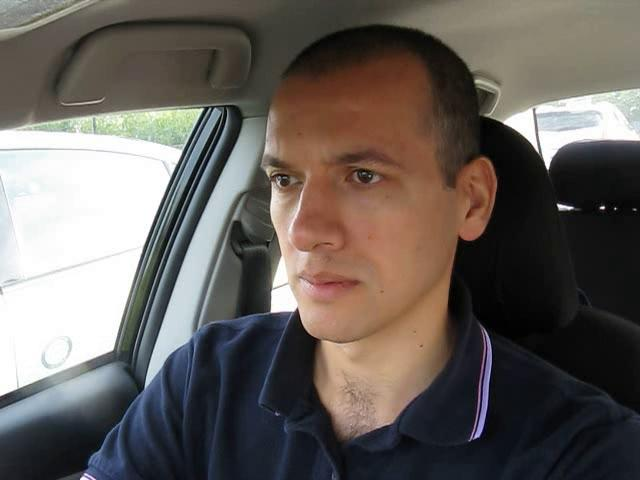no_yawn: (280, 259, 370, 307)
open_eyeL: (257, 163, 307, 198)
open_eyeR: (337, 159, 393, 197)
